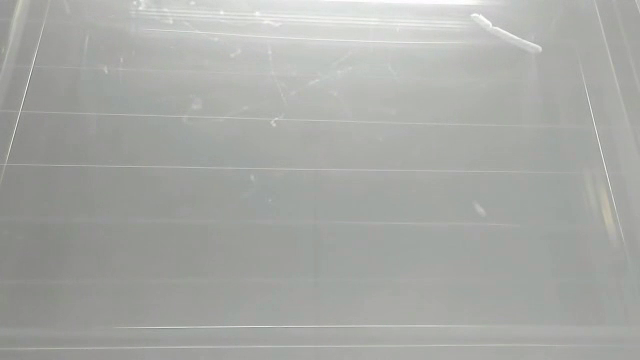alpha: (467, 10, 544, 59), (468, 196, 491, 226)
